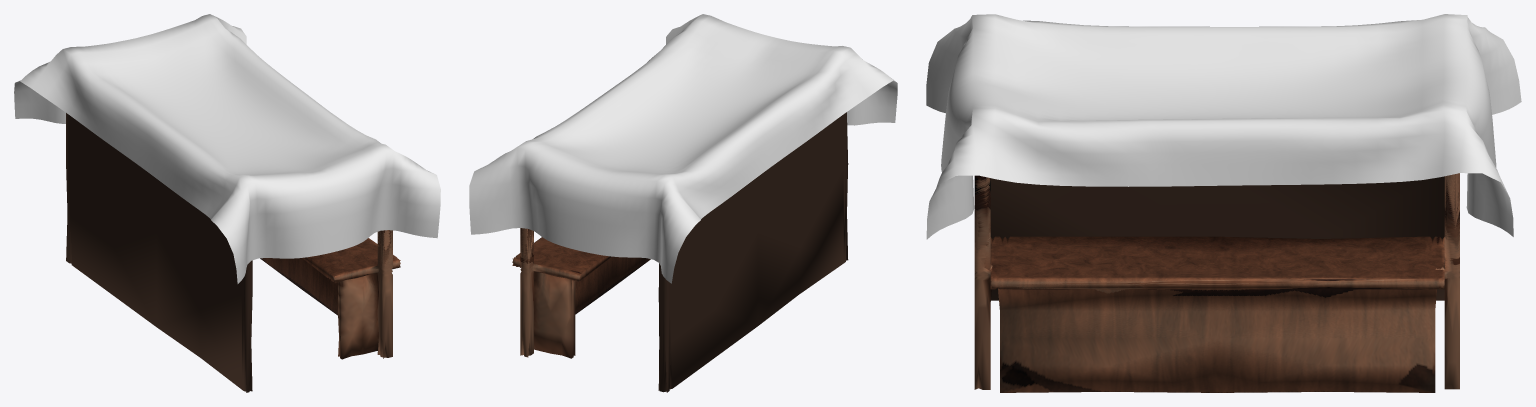
The model's file is stall.fbx.
3 renders of one model, left to right at view 1: azimuth 30°, elevation 25°; view 2: azimuth 150°, elevation 25°; view 3: azimuth 270°, elevation 25°, orthographic. The views are drawn at different scales.
Visible parts, largest first — view 1: cloth, stall; view 2: cloth, stall; view 3: stall, cloth.
Boxes of the visible parts, <box> form: cloth: <box>14,14,440,283</box>; stall: <box>66,113,400,392</box>; cloth: <box>469,14,897,283</box>; stall: <box>512,112,848,392</box>; stall: <box>974,173,1459,392</box>; cloth: <box>926,14,1521,239</box>.
Bounding box in the file's own units: 514 × 470 × 897.
